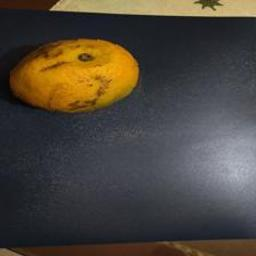Orange Semifresh: (11, 38, 148, 125)
